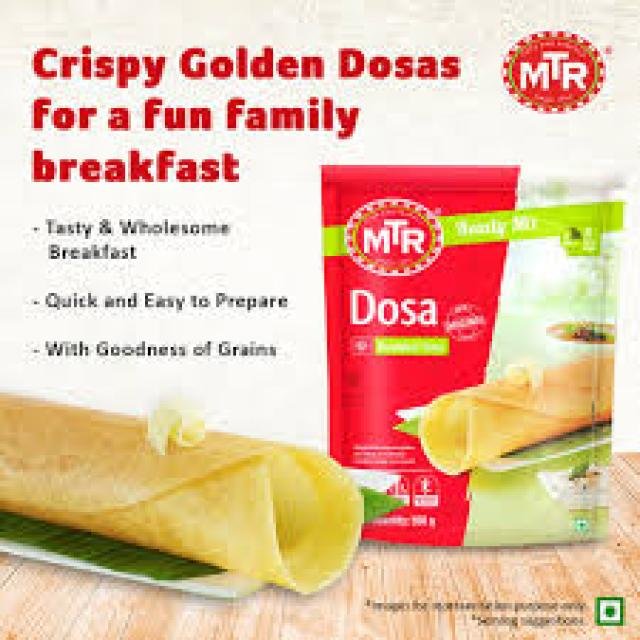DOSA: (3, 393, 361, 592)
